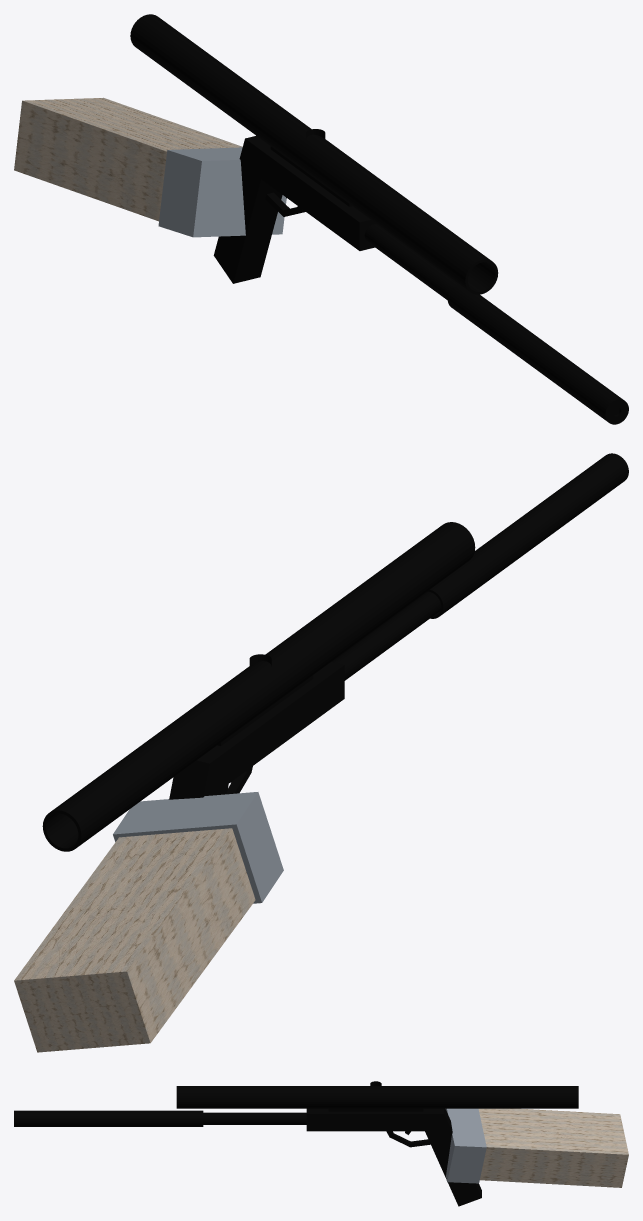
Rendered from pistol.glb.
The picture shows the model from 3 angles, top to bottom: view 1: azimuth 30°, elevation 25°; view 2: azimuth 150°, elevation 25°; view 3: azimuth 270°, elevation 25°; orthographic projection. The views are drawn at different scales.
Visible parts, largest first — view 1: Cube.209, Cube.276, Cube.277; view 2: Cube.209, Cube.276, Cube.277; view 3: Cube.209, Cube.276, Cube.277.
Boxes of the visible parts, x1,y1,x2,y2 form: Cube.209: [130, 14, 628, 424]; Cube.276: [14, 97, 242, 221]; Cube.277: [158, 147, 286, 237]; Cube.209: [42, 453, 628, 851]; Cube.276: [14, 828, 255, 1052]; Cube.277: [113, 792, 283, 903]; Cube.209: [14, 1081, 578, 1206]; Cube.276: [478, 1108, 628, 1187]; Cube.277: [445, 1108, 486, 1183].
Bounding box in the file's own units: 0.3262 × 0.4244 × 1.99.
Materials: 3 (1 with a texture image).
